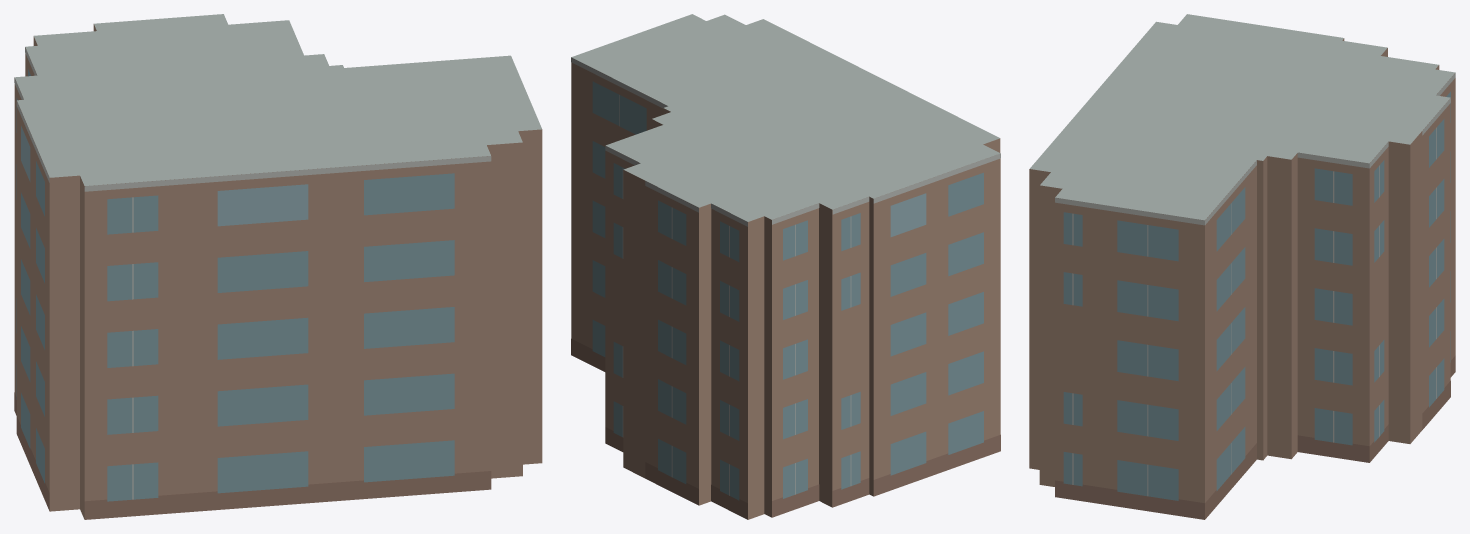
File: survey-upis-32893648.glb
3 views of the same model, side by side, from view 1: azimuth 30°, elevation 25°; view 2: azimuth 150°, elevation 25°; view 3: azimuth 270°, elevation 25° (orthographic). The views are drawn at different scales.
Visible parts, largest first — view 1: survey-upis-32893648.tmp; view 2: survey-upis-32893648.tmp; view 3: survey-upis-32893648.tmp.
Boxes of the visible parts, x1,y1,x2,y2 form: survey-upis-32893648.tmp: (14, 14, 542, 519); survey-upis-32893648.tmp: (571, 14, 1000, 519); survey-upis-32893648.tmp: (1029, 14, 1455, 519).
Size of the model in its own units: 21.29 by 14.4 by 18.58.
